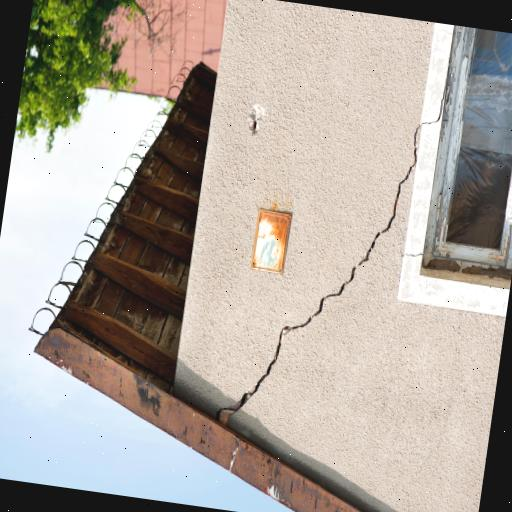spalling: (226, 108, 429, 416)
